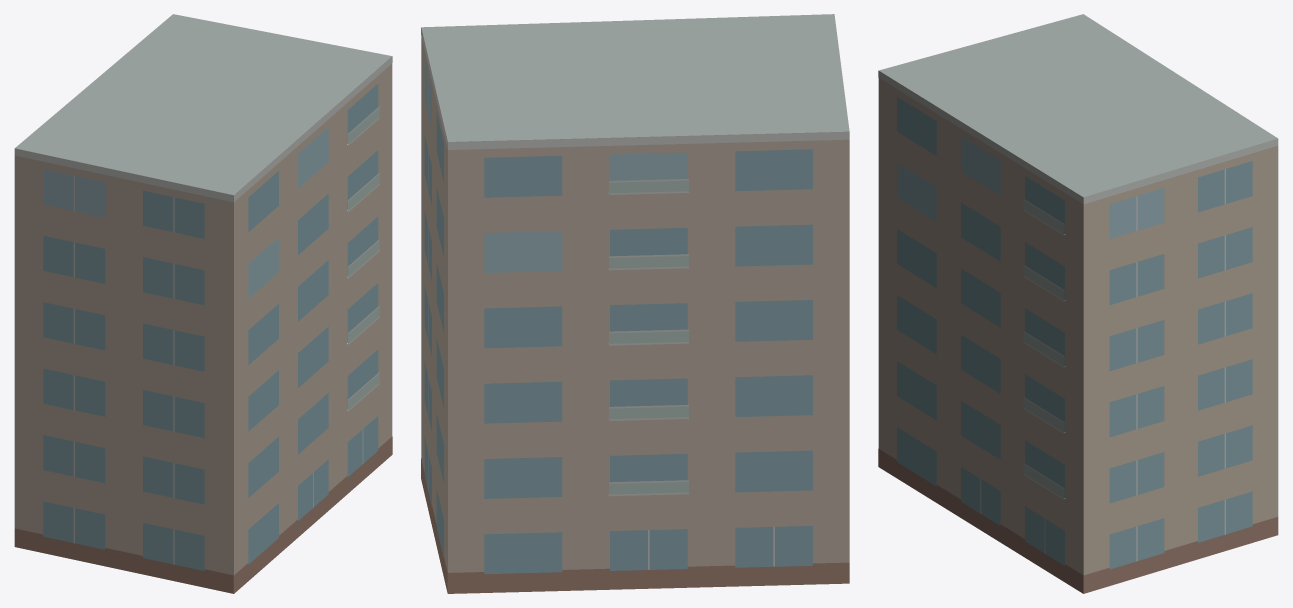
Rendered from survey-upis-32847854.glb.
3 renders of one model, left to right at view 1: azimuth 30°, elevation 25°; view 2: azimuth 150°, elevation 25°; view 3: azimuth 270°, elevation 25°, orthographic. The views are drawn at different scales.
Visible parts, largest first — view 1: survey-upis-32847854.tmp; view 2: survey-upis-32847854.tmp; view 3: survey-upis-32847854.tmp.
Part boxes in pixels (x1,y1,x2,y2): survey-upis-32847854.tmp: (14,14,392,593); survey-upis-32847854.tmp: (421,14,849,593); survey-upis-32847854.tmp: (878,14,1278,593).
Size of the model in its own units: 13.6 by 13.7 by 12.53.
